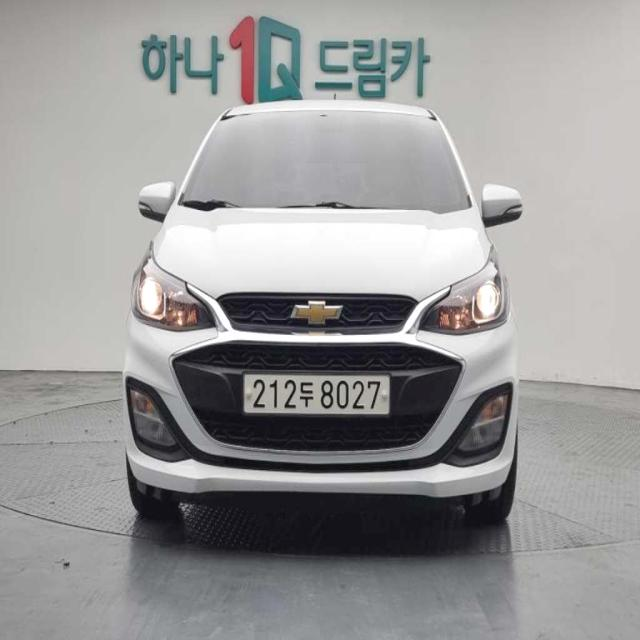car: (116, 92, 525, 533)
illegal_plate: (241, 367, 391, 423)
